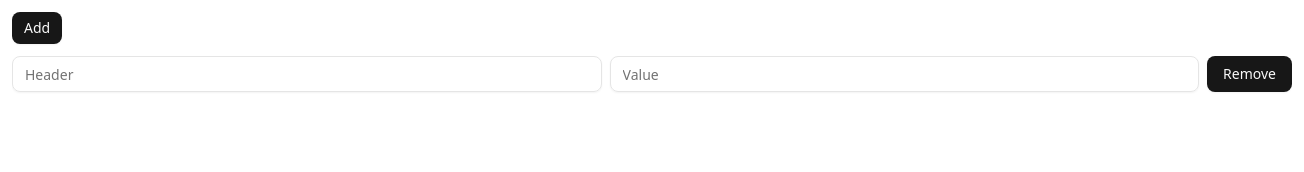
Scenario: Headers › should add and remove a header field successfully
The width and height of the screenshot is (1304, 172).
Expected: the number of fields with placeholder "Header" is 1, [12, 56, 602, 92]
Expected: the number of fields with placeholder "Value" is 1, [610, 56, 1199, 92]
What coordinates should you click on to do the following:
click the button "Add"
I would click on:
 (37, 28)
Its box is [12, 12, 62, 44].
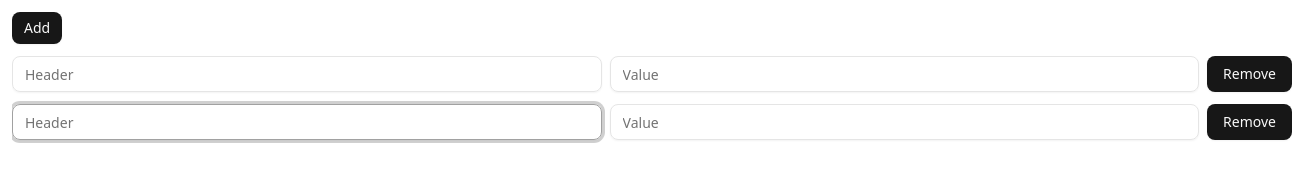
Expected: the number of fields with placeholder "Header" is 2, [12, 56, 602, 92]; [12, 104, 602, 140]
Expected: the number of buttons "Remove" is 2
What coordinates should you click on to do the following:
click the 2nd button "Remove"
I would click on:
 (1250, 122)
Its box is [1207, 104, 1292, 140].
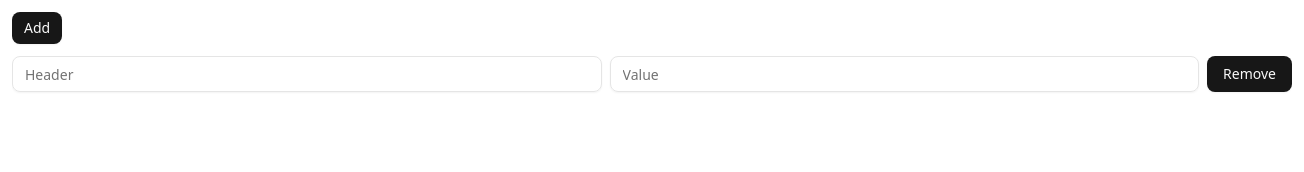
Expected: the number of fields with placeholder "Header" is 1, [12, 56, 602, 92]
Expected: the number of buttons "Remove" is 1, [1207, 56, 1292, 92]
